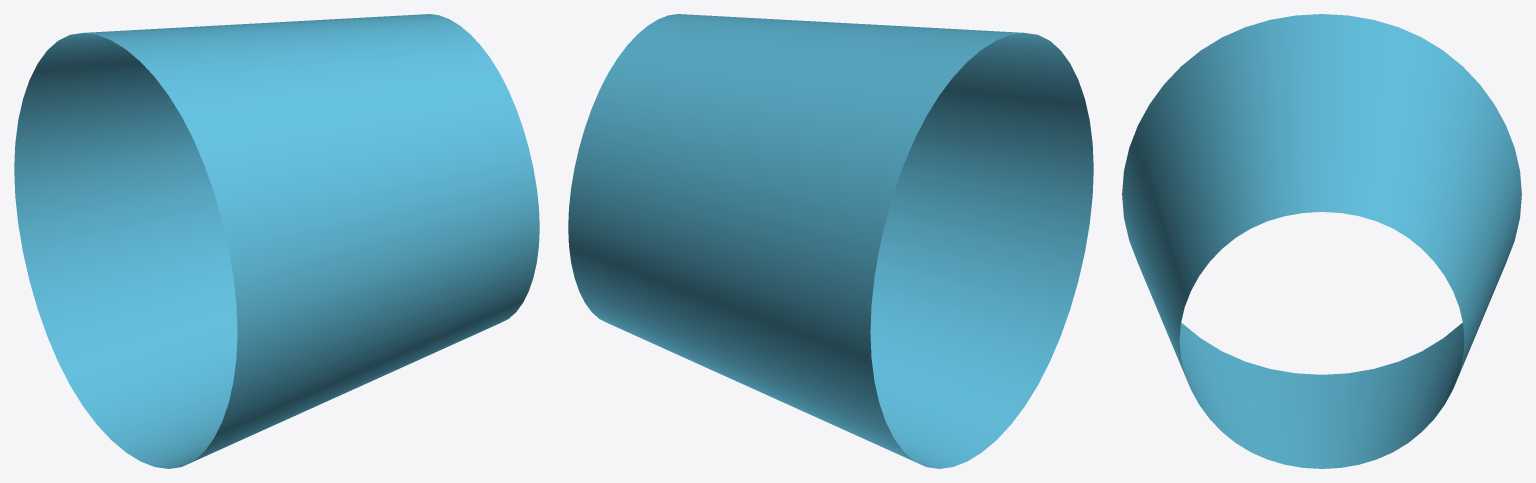
Rendered from lightbeam02.fbx.
3 views of the same model, side by side, from view 1: azimuth 30°, elevation 25°; view 2: azimuth 150°, elevation 25°; view 3: azimuth 270°, elevation 25° (orthographic). The views are drawn at different scales.
Visible parts, largest first — view 1: lightbeam02; view 2: lightbeam02; view 3: lightbeam02.
Boxes of the visible parts, <box> form: lightbeam02: <box>14,14,539,468</box>; lightbeam02: <box>568,14,1093,468</box>; lightbeam02: <box>1122,14,1521,468</box>.
Size of the model in its own units: 198 by 228 by 229.
